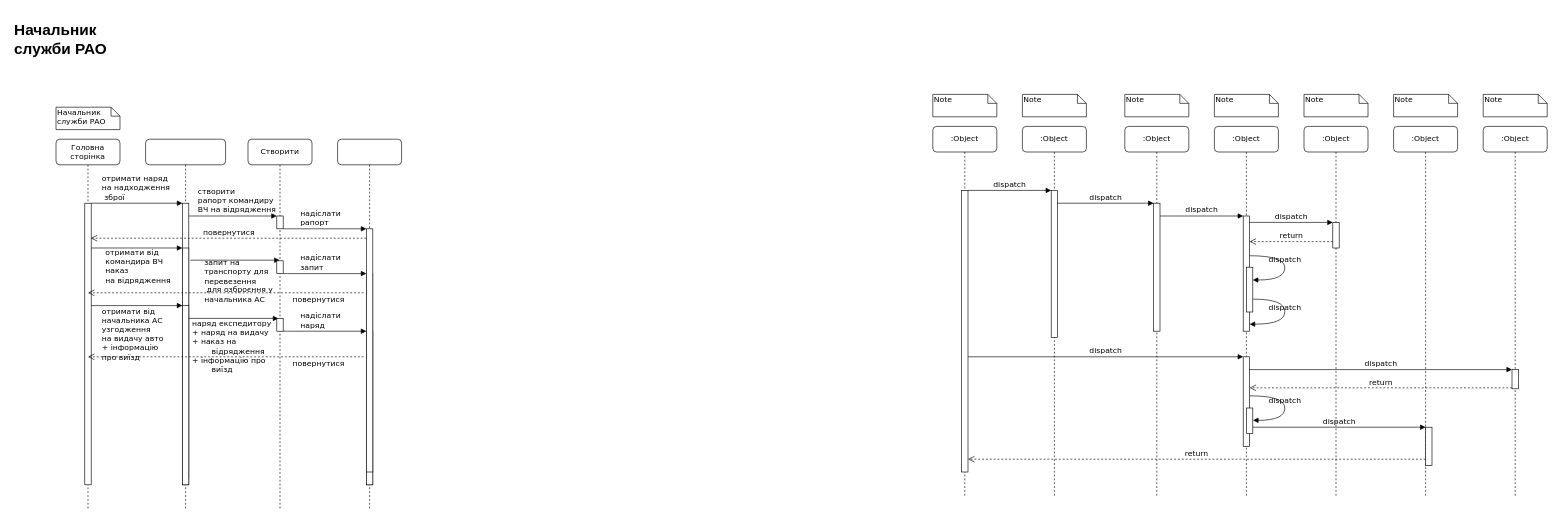
Some shapes in this 1558 by 522 pixel diagram are drawn without their labels. Each missing label, with the box of its shape:
Вхідні: (145, 139, 226, 510)
Надіслані: (337, 139, 402, 510)
